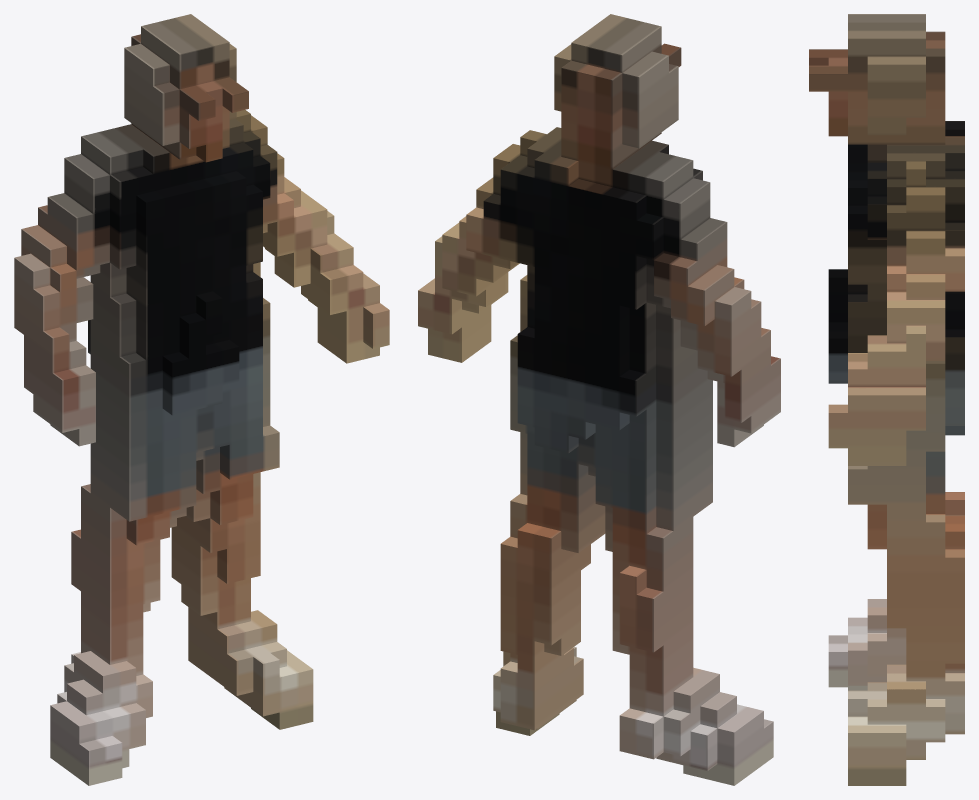
Rendered from dab.fbx.
3 views of the same model, side by side, from view 1: azimuth 30°, elevation 25°; view 2: azimuth 150°, elevation 25°; view 3: azimuth 270°, elevation 25° (orthographic).
Parts seen in each view (by area): view 1: DAB; view 2: DAB; view 3: DAB.
Part boxes in pixels (x1=…): DAB: x1=14, y1=14, x2=389, y2=785; DAB: x1=418, y1=14, x2=780, y2=785; DAB: x1=809, y1=14, x2=964, y2=785.
Size of the model in its own units: 1520 by 3200 by 640.
1 material, 1 textured.
